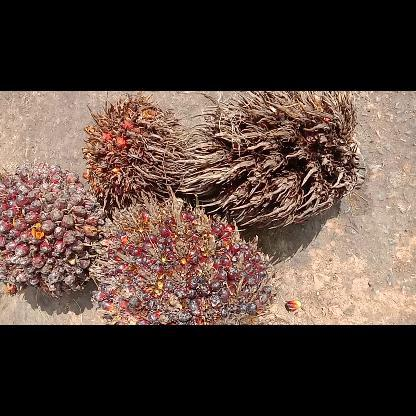Janjang kosong: (176, 92, 368, 232)
Kurang masak: (1, 162, 111, 298)
TBS masak: (94, 194, 284, 322)
Terlalu masak: (81, 94, 185, 207)
